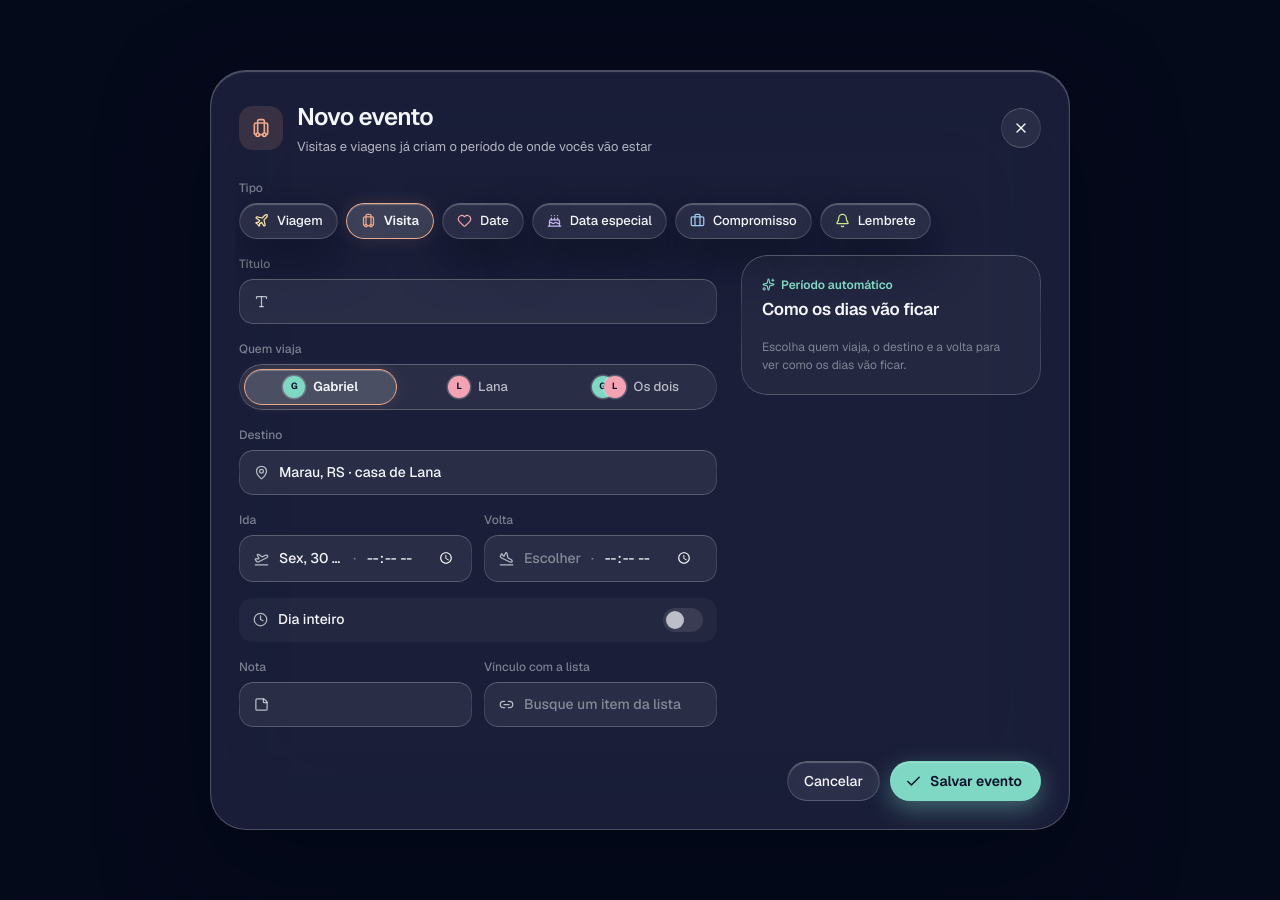
Test case: A18 — Período automático › só em viagem e visita, e só ao criar
The image size is (1280, 900).
Click the button "Date".
click(483, 220)  # box [442,202,524,238]
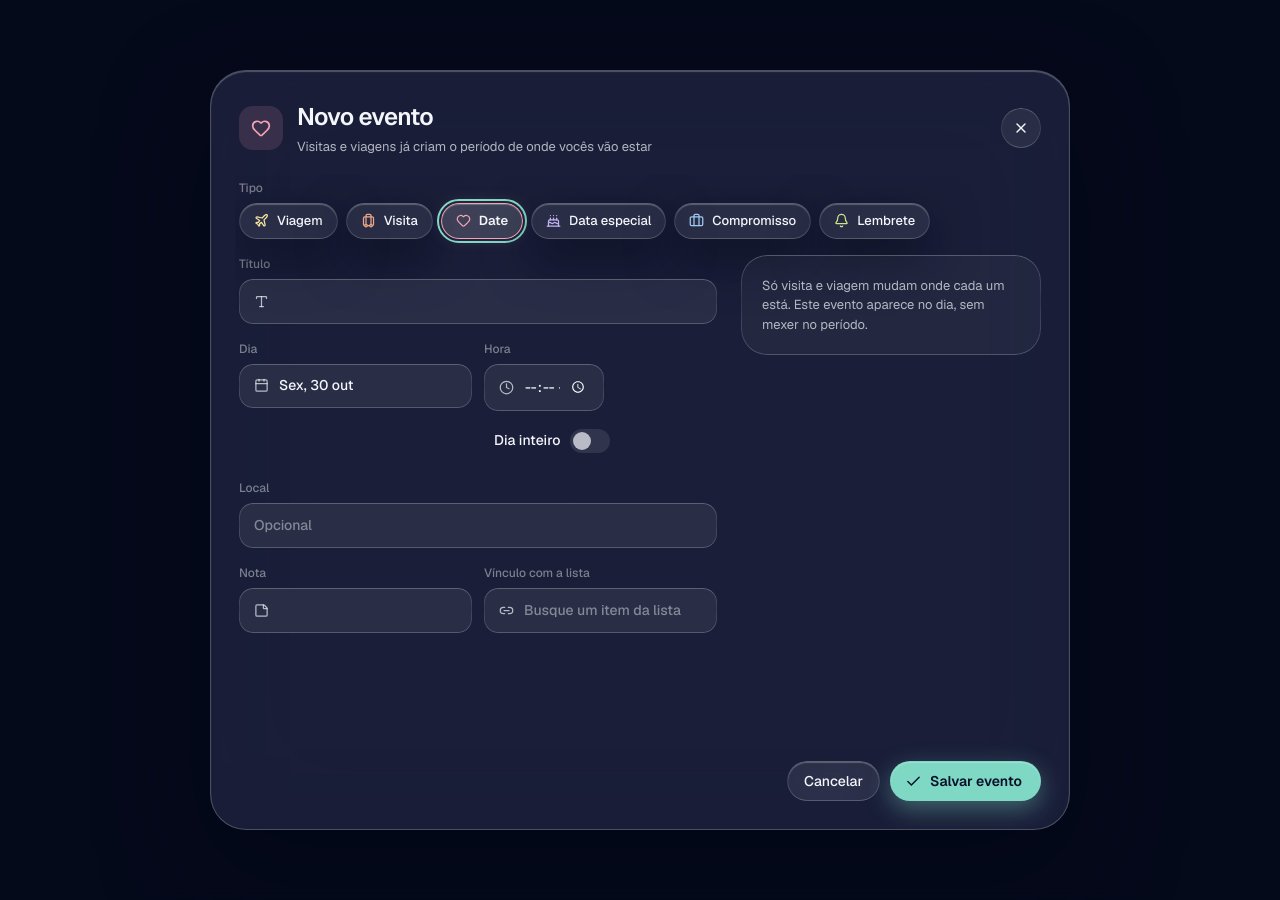
Check: the element "Período automático" is gone
Click the button "Viagem".
click(288, 220)  # box [239,202,338,238]
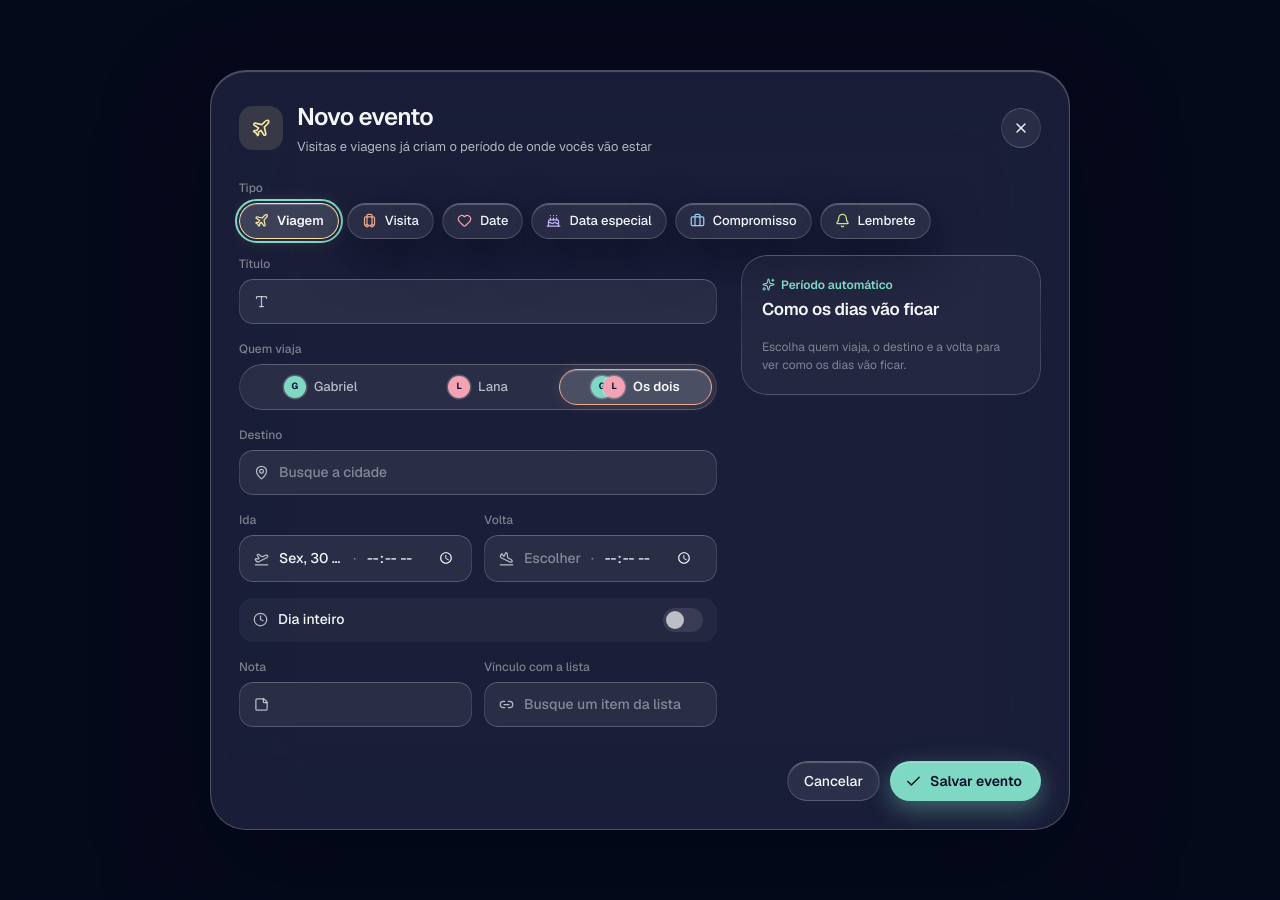
Check: the element "Período automático" is shown, box [741,254,1041,395]
